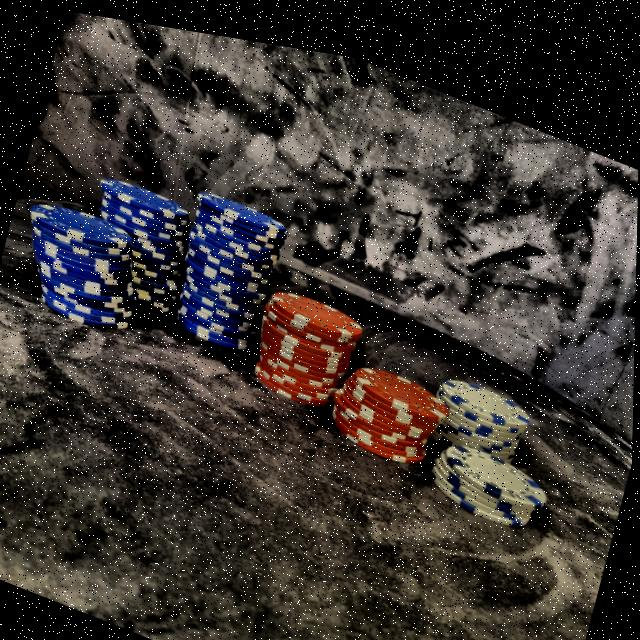Chip: (157, 163, 294, 369), (9, 173, 154, 342), (242, 250, 378, 422), (318, 321, 456, 473), (79, 157, 200, 321), (413, 339, 543, 467), (423, 414, 557, 525)
